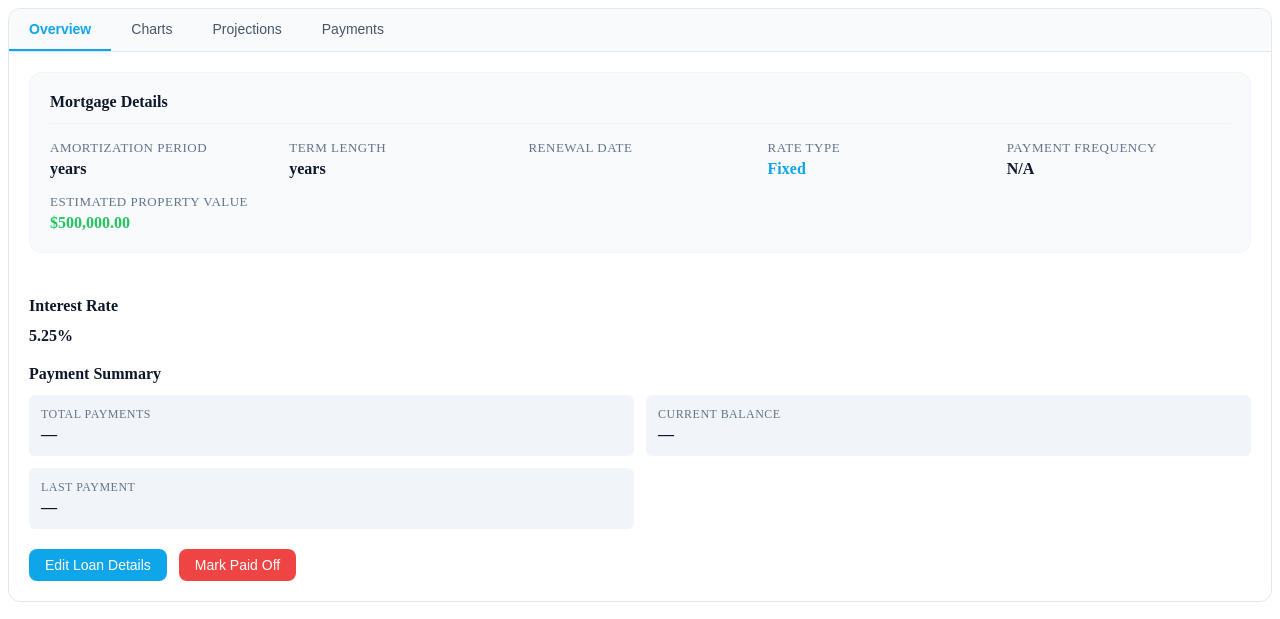
Test: MortgageTabbedContent › Payments tab shows migration prompt when balance history exists and no payments recorded
What coordinates should you click on to do the following:
click the tab "Payments"
I would click on:
 (353, 30)
Its box is [302,9,404,51].
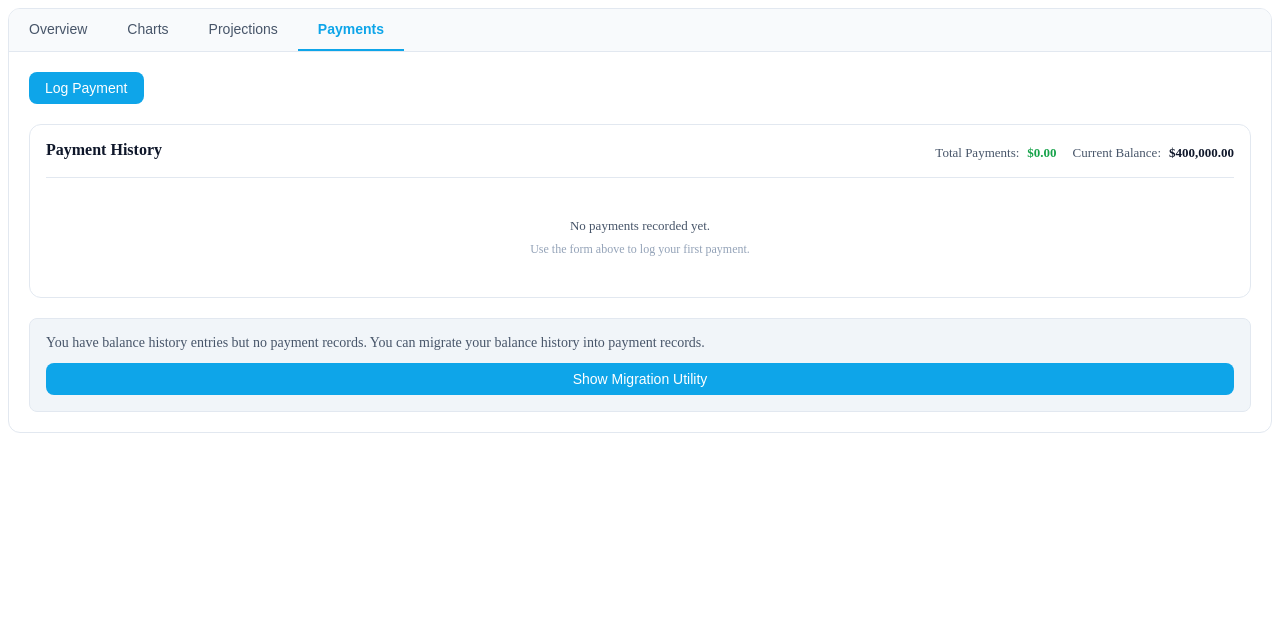
expect the text "You have balance history entries but no payment records" is shown: met, box [46,335,705,350]
expect the button "Show Migration Utility" is shown: met, box [46,363,1234,395]
